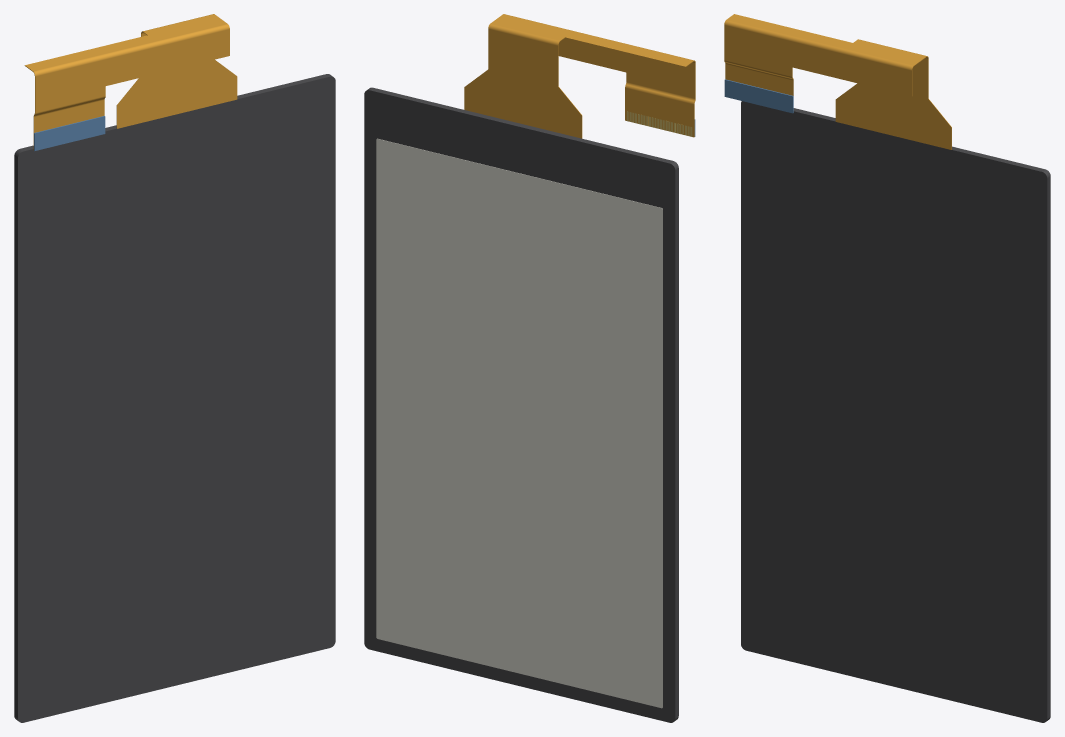
The model's file is display-panel.glb.
The picture shows the model from 3 angles, left to right: view 1: azimuth 30°, elevation 25°; view 2: azimuth 150°, elevation 25°; view 3: azimuth 330°, elevation 25°; orthographic projection. The views are drawn at different scales.
Parts seen in each view (by area): view 1: Waveshare-3.97-G-nominal-outline, EPD-flex-polyimide-nominal, EPD-flex-tip-stiffener-nominal; view 2: 480x800-active-area, Waveshare-3.97-G-nominal-outline, EPD-flex-polyimide-nominal; view 3: Waveshare-3.97-G-nominal-outline, EPD-flex-polyimide-nominal, EPD-flex-tip-stiffener-nominal.
Part boxes in pixels (bbox=[...]): Waveshare-3.97-G-nominal-outline: bbox=[14, 74, 335, 722]; EPD-flex-polyimide-nominal: bbox=[24, 14, 237, 150]; EPD-flex-tip-stiffener-nominal: bbox=[34, 116, 105, 151]; 480x800-active-area: bbox=[376, 138, 662, 708]; Waveshare-3.97-G-nominal-outline: bbox=[364, 87, 678, 722]; EPD-flex-polyimide-nominal: bbox=[464, 14, 695, 138]; Waveshare-3.97-G-nominal-outline: bbox=[741, 101, 1050, 722]; EPD-flex-polyimide-nominal: bbox=[724, 14, 951, 149]; EPD-flex-tip-stiffener-nominal: bbox=[724, 79, 793, 113].
Size of the model in its own units: 56.24 by 112 by 6.46.
